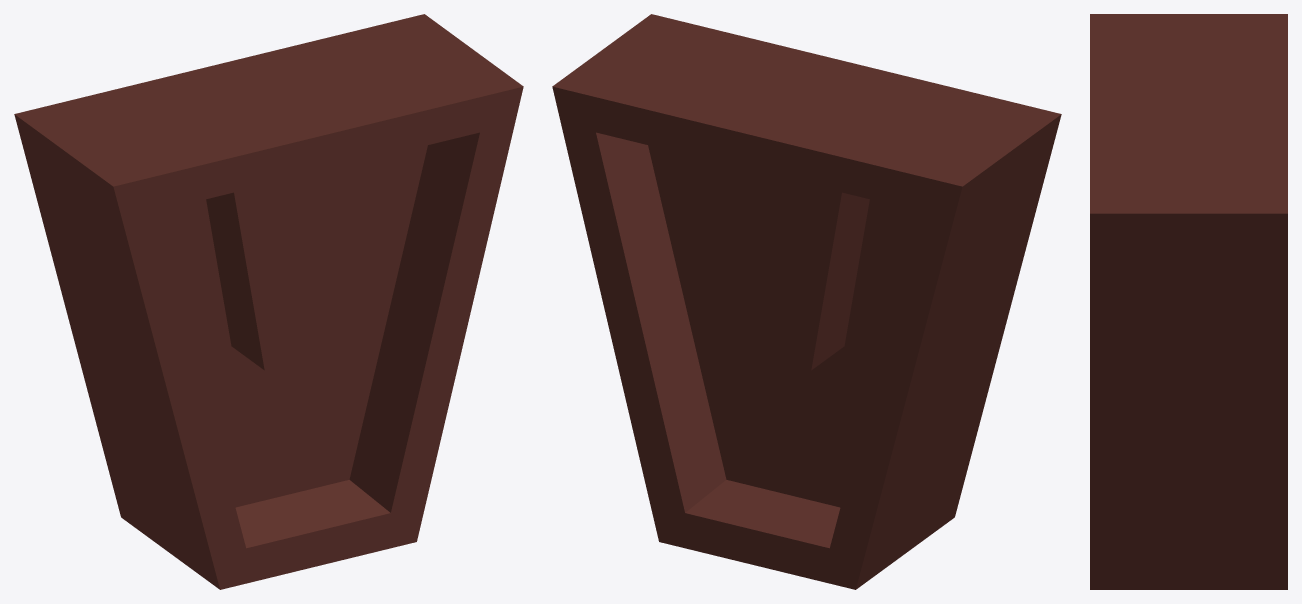
The model's file is 05_AgarradorVidrio.fbx.
3 renders of one model, left to right at view 1: azimuth 30°, elevation 25°; view 2: azimuth 150°, elevation 25°; view 3: azimuth 270°, elevation 25°, orthographic.
Parts seen in each view (by area): view 1: BarandalDomoDeco01; view 2: BarandalDomoDeco01; view 3: BarandalDomoDeco01.
Part boxes in pixels (bbox=[...]): BarandalDomoDeco01: bbox=[14, 14, 523, 589]; BarandalDomoDeco01: bbox=[552, 14, 1061, 589]; BarandalDomoDeco01: bbox=[1090, 14, 1287, 589].
Size of the model in its own units: 28.19 by 28.19 by 11.79.
